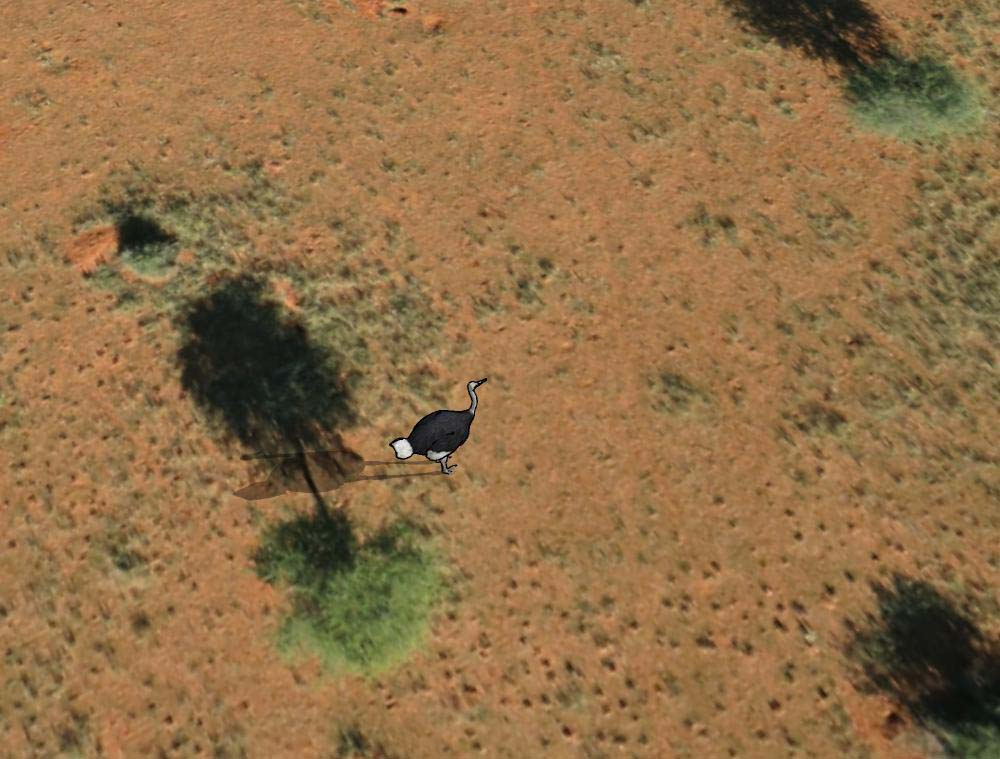springbok: (386, 376, 485, 476)
